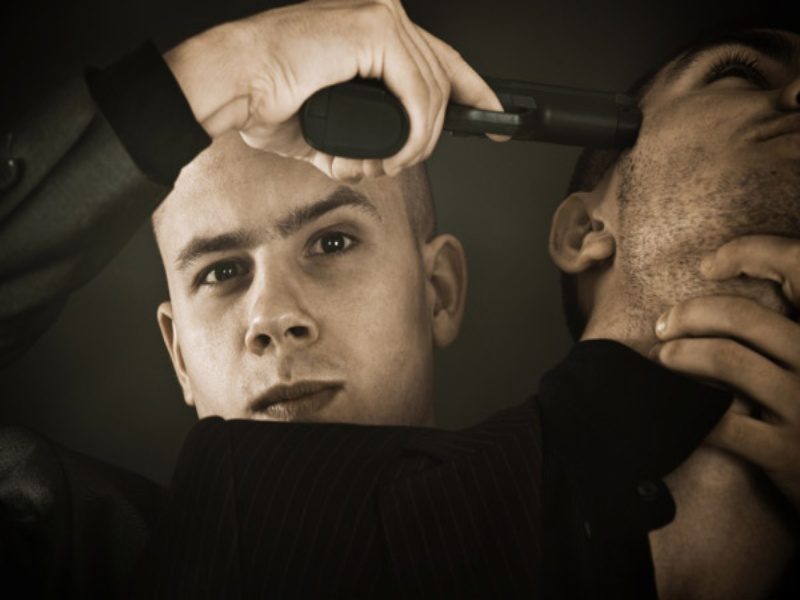gun: (296, 25, 643, 187)
